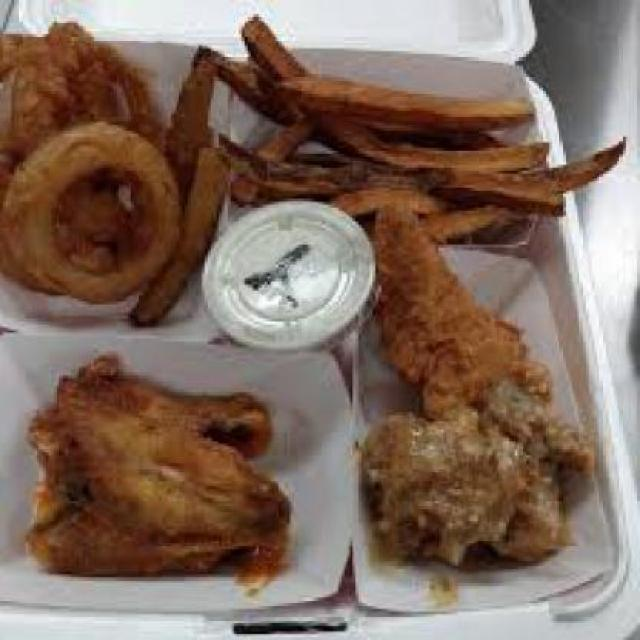chicken wings: (2, 236, 612, 612)
french fries: (205, 14, 637, 228)
onion rings: (3, 23, 228, 339)
